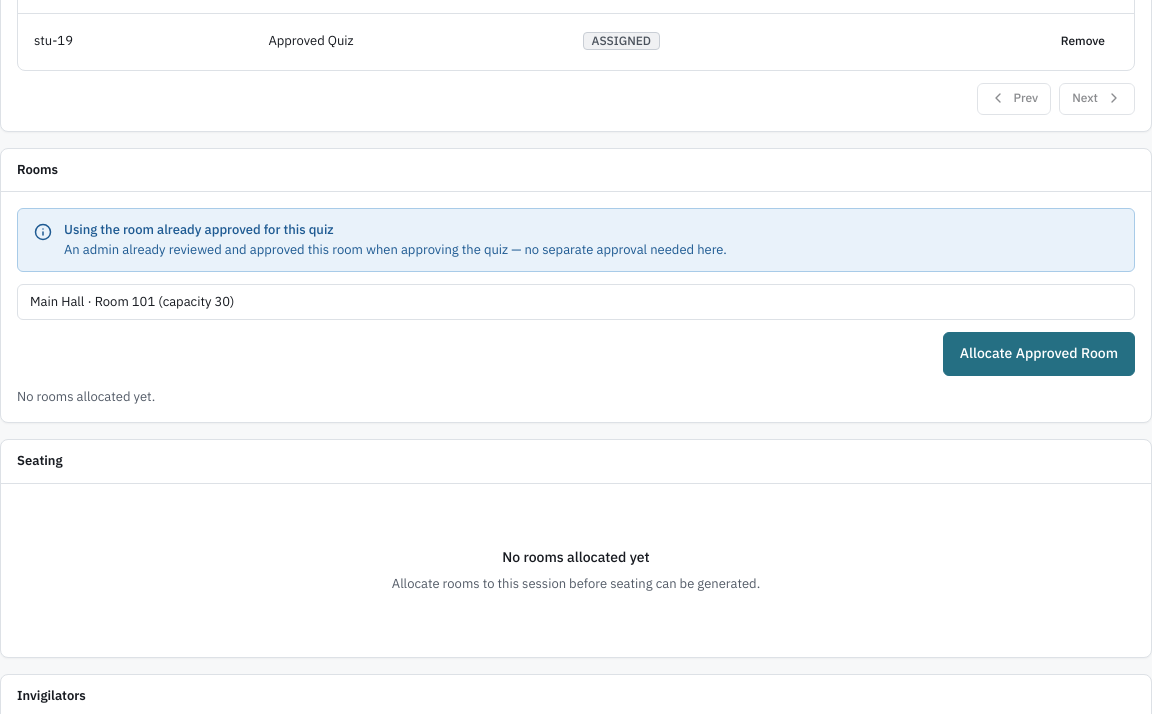
Scenario: Room request + admin approval › skips the admin-review cycle entirely when the attached quiz already has an admin-approved room — faculty self-service allocates it directly
The image size is (1152, 714).
(page scrolled)
Expected: the text "Using the room already approved for this quiz" is shown, left=64, top=221, right=334, bottom=238
What coordinates should you click on to do the following:
click the button "Allocate Approved Room"
I would click on:
 (1039, 354)
Its box is left=943, top=332, right=1135, bottom=376.
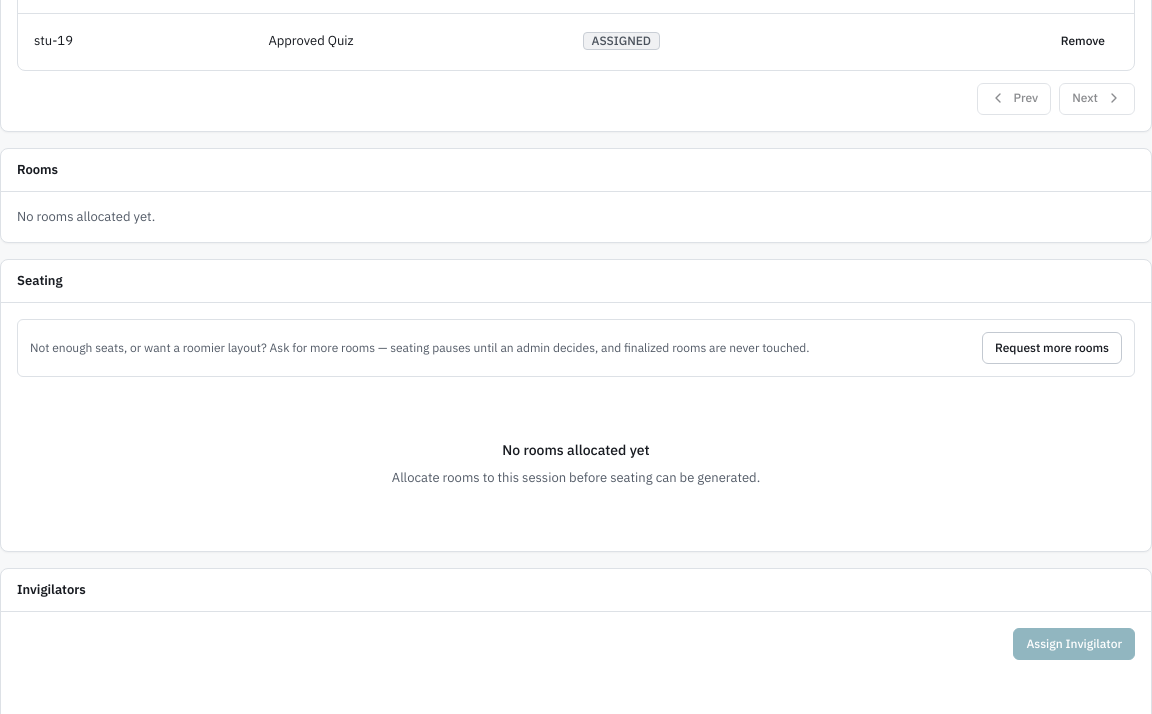
Expected: the text "Using the room already approved" is gone
